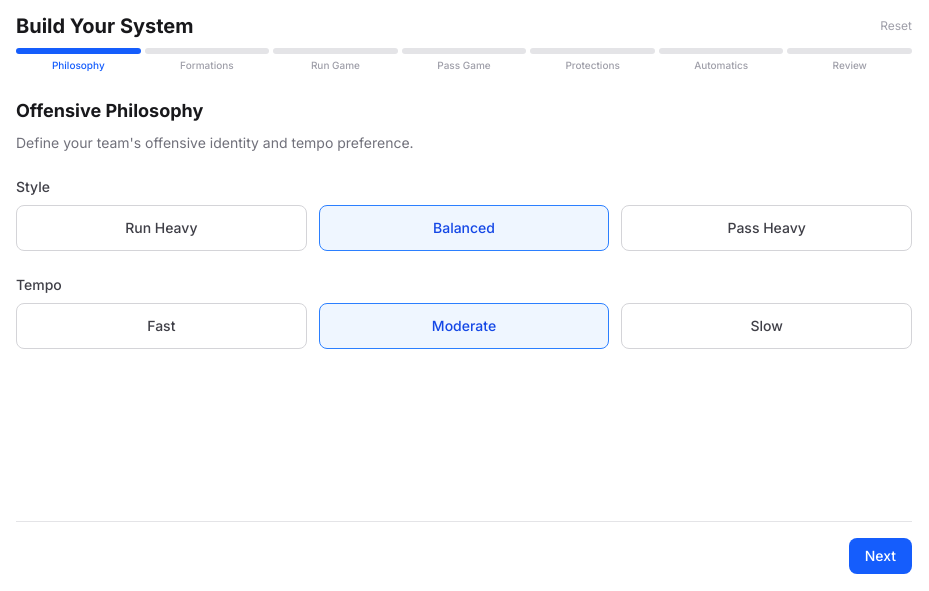
Test: SystemBuilder › can select formations
What coordinates should you click on to do the following:
click the button with test id "next-button"
I would click on:
 (880, 556)
Its box is [849,538,912,574].
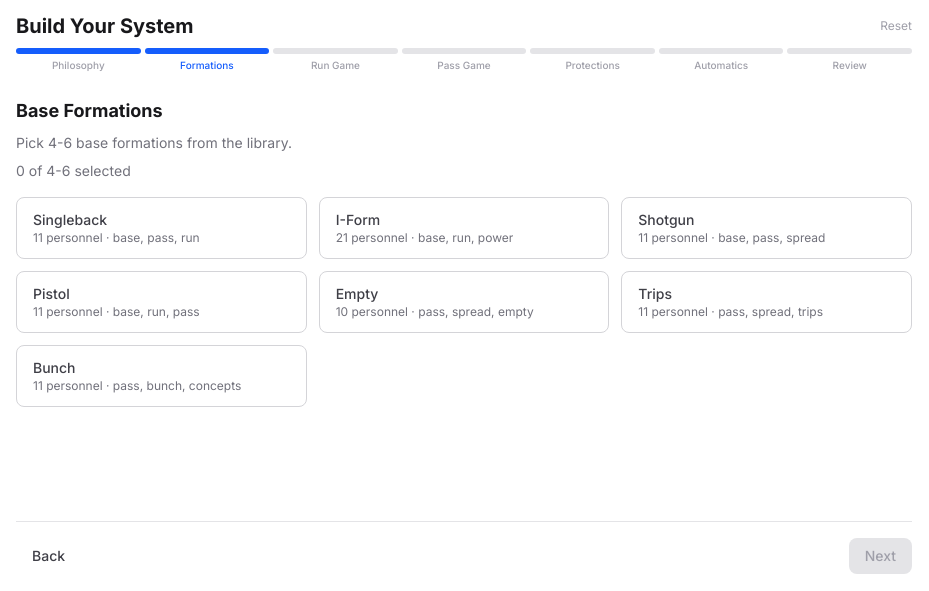
What coordinates should you click on to do the following:
click the button with test id "formation-option-builtin-singleback"
I would click on:
 (161, 228)
Its box is [16,197,307,259].
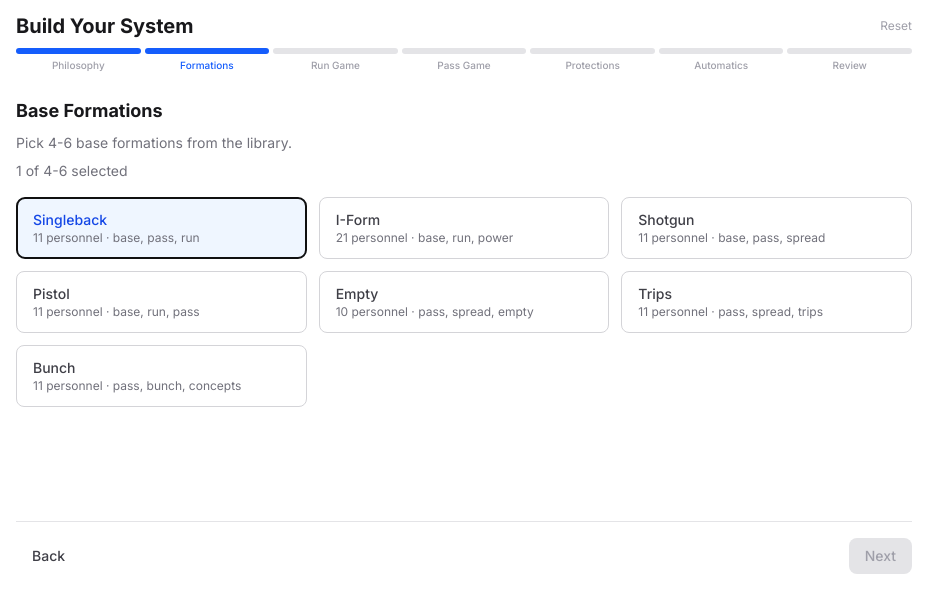
expect the text with test id "formation-count" reads "1 of 4-6 selected": met, box [16,162,128,179]
